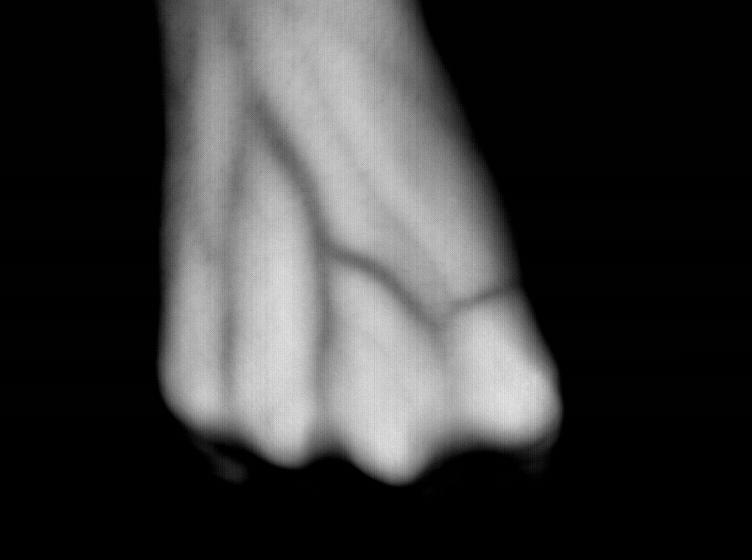Vein: (223, 106, 426, 348)
